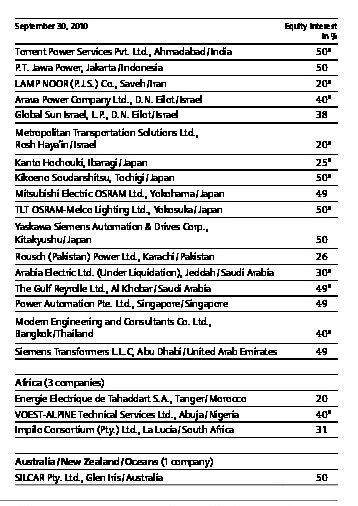table: (0, 0, 358, 506)
